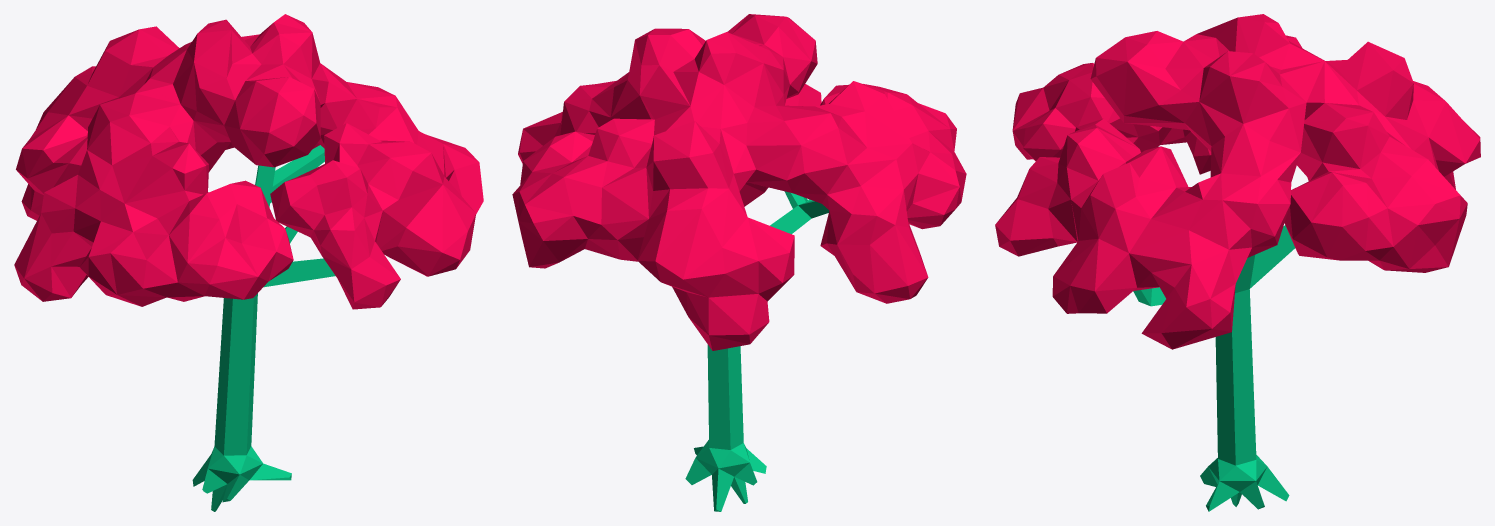
The model's file is tree.fbx.
3 renders of one model, left to right at view 1: azimuth 30°, elevation 25°; view 2: azimuth 150°, elevation 25°; view 3: azimuth 270°, elevation 25°, orthographic. The views are drawn at different scales.
Visible parts, largest first — view 1: leaves; view 2: leaves; view 3: leaves.
Part boxes in pixels (box(x1,y1,x2,y2)): leaves: box(14, 14, 483, 511); leaves: box(512, 14, 966, 511); leaves: box(995, 14, 1480, 511).
Size of the model in its own units: 635 by 671 by 593.
